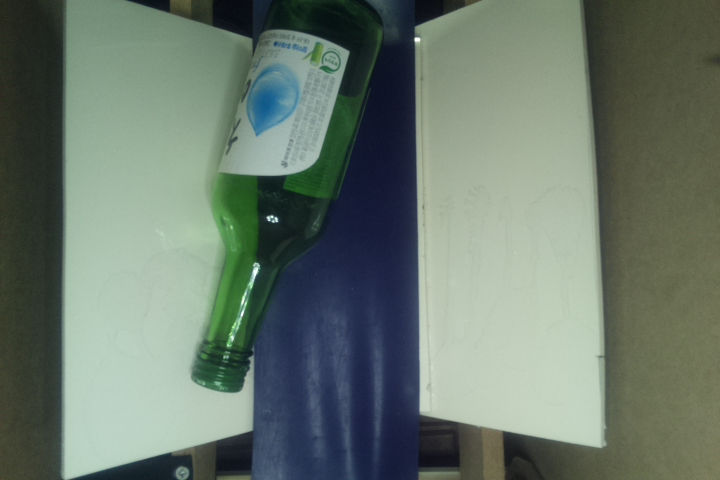soju: (182, 1, 393, 399)
